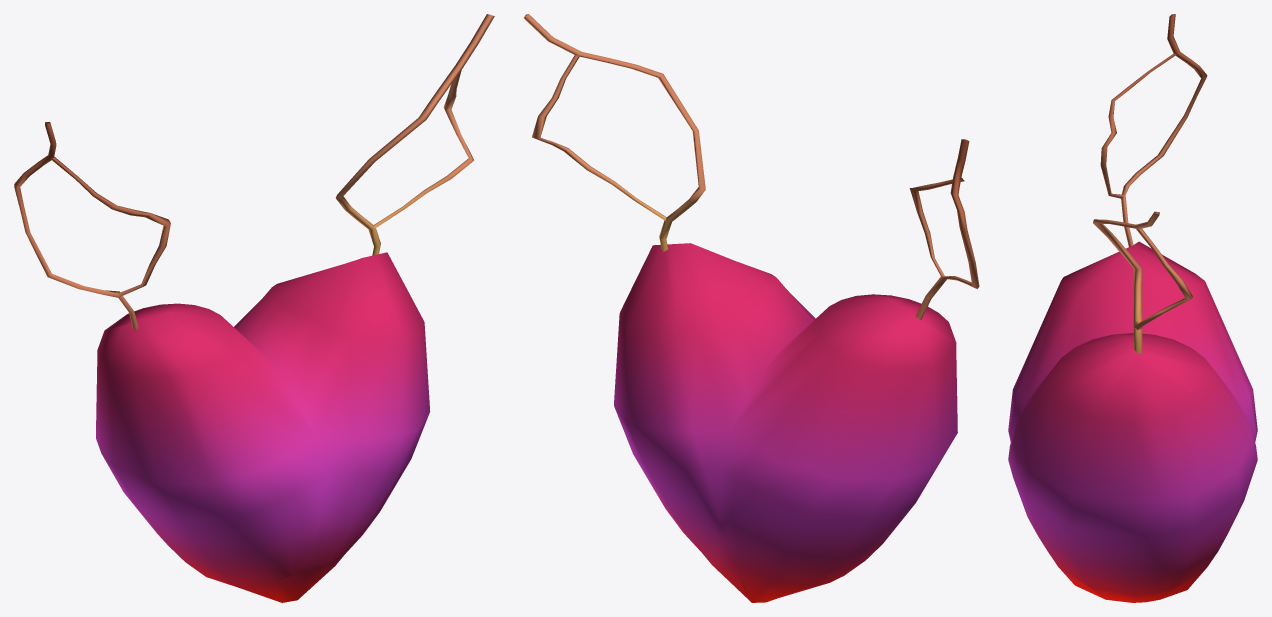
The model's file is Heart_fruit.fbx.
3 renders of one model, left to right at view 1: azimuth 30°, elevation 25°; view 2: azimuth 150°, elevation 25°; view 3: azimuth 270°, elevation 25°, orthographic. The views are drawn at different scales.
Parts seen in each view (by area): view 1: Heart; view 2: Heart; view 3: Heart.
Boxes of the visible parts, left/top/right/bottom form: Heart: left=14, top=14, right=494, bottom=602; Heart: left=524, top=14, right=979, bottom=602; Heart: left=1008, top=14, right=1257, bottom=602.
Size of the model in its own units: 0.3249 by 0.3522 by 0.1586.
